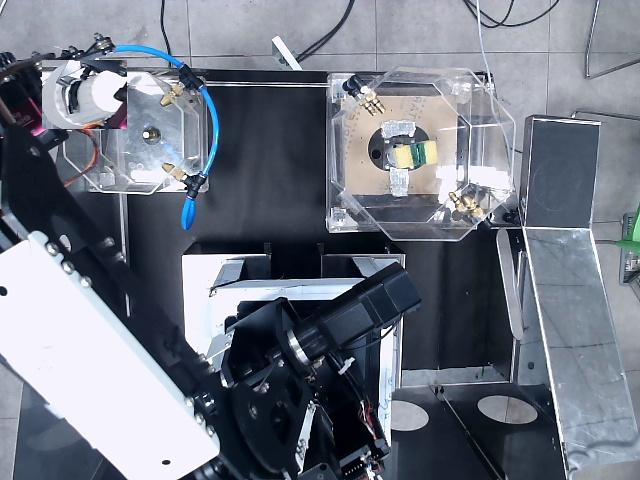cup: (42, 60, 127, 129)
